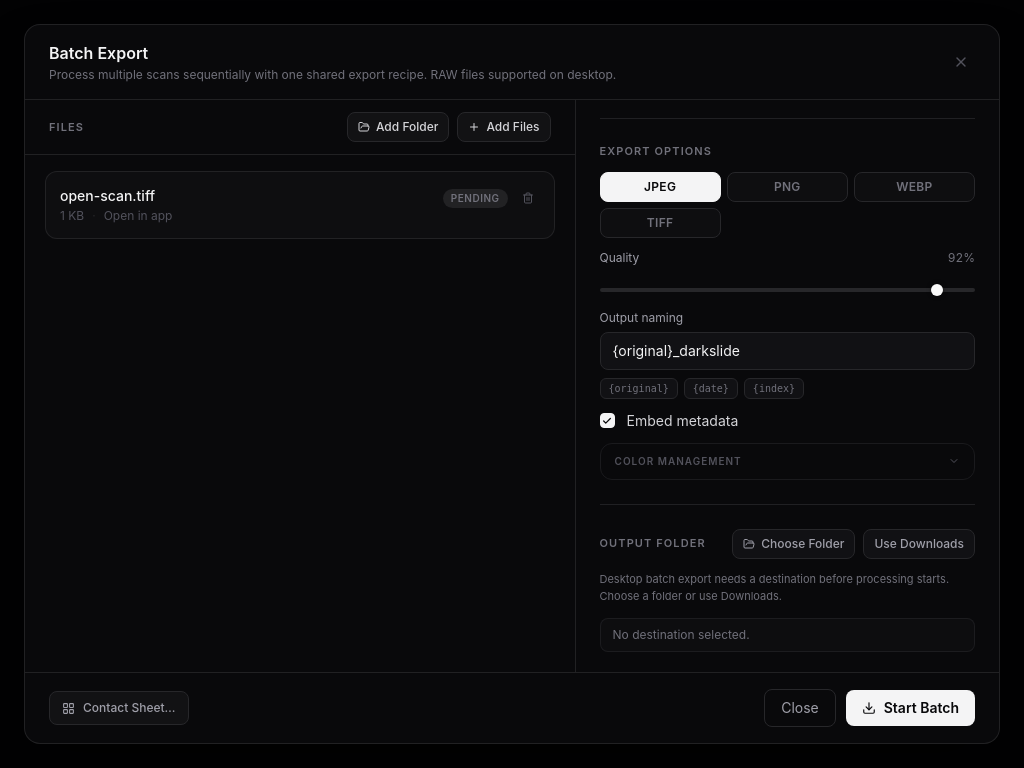
Scenario: BatchModal › uses the desktop Downloads destination when selected explicitly
(page scrolled)
Expected: the text "open-scan.tiff" is shown, [60,187,155,204]
Click the button "Use Downloads" at [919, 544], box [863,528,975,558]
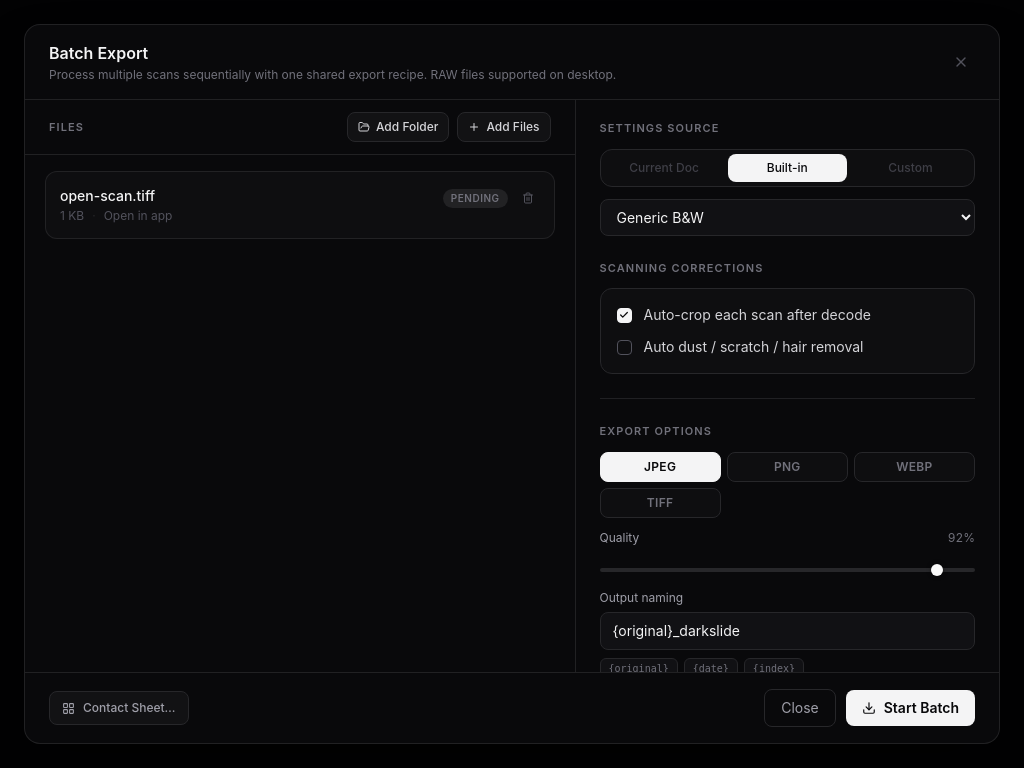
Click the button "Start Batch" at [910, 708], box [846,690,975,726]
(page scrolled)
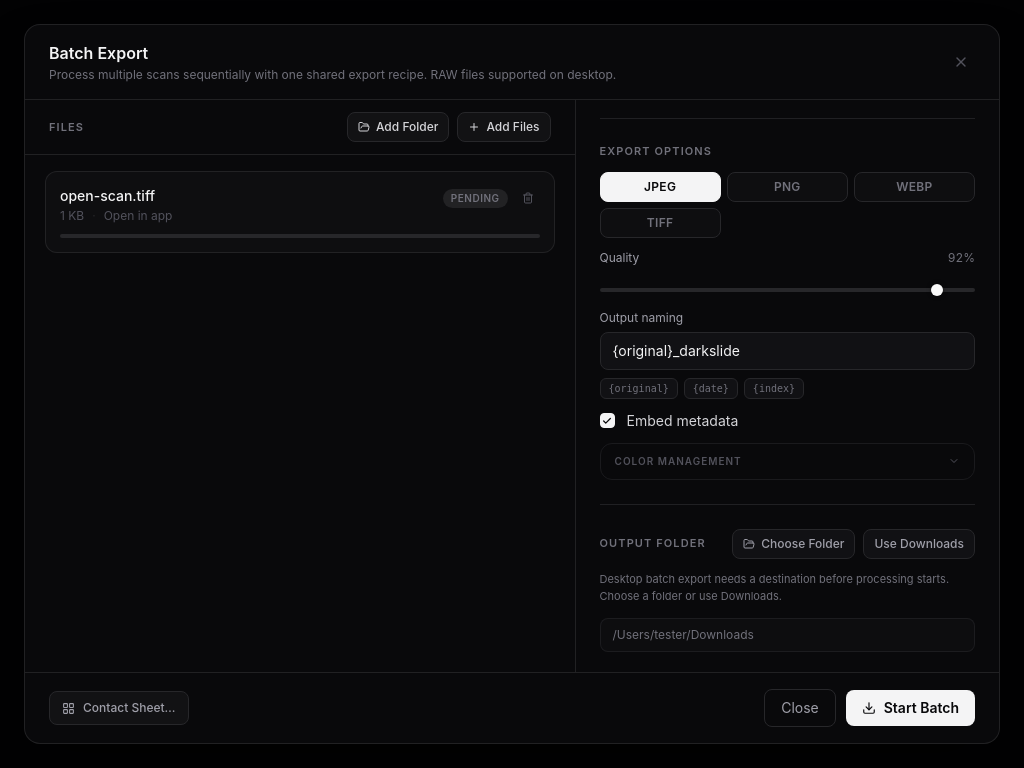
Expected: the text "/Users/tester/Downloads" is shown, [600,618,975,652]
